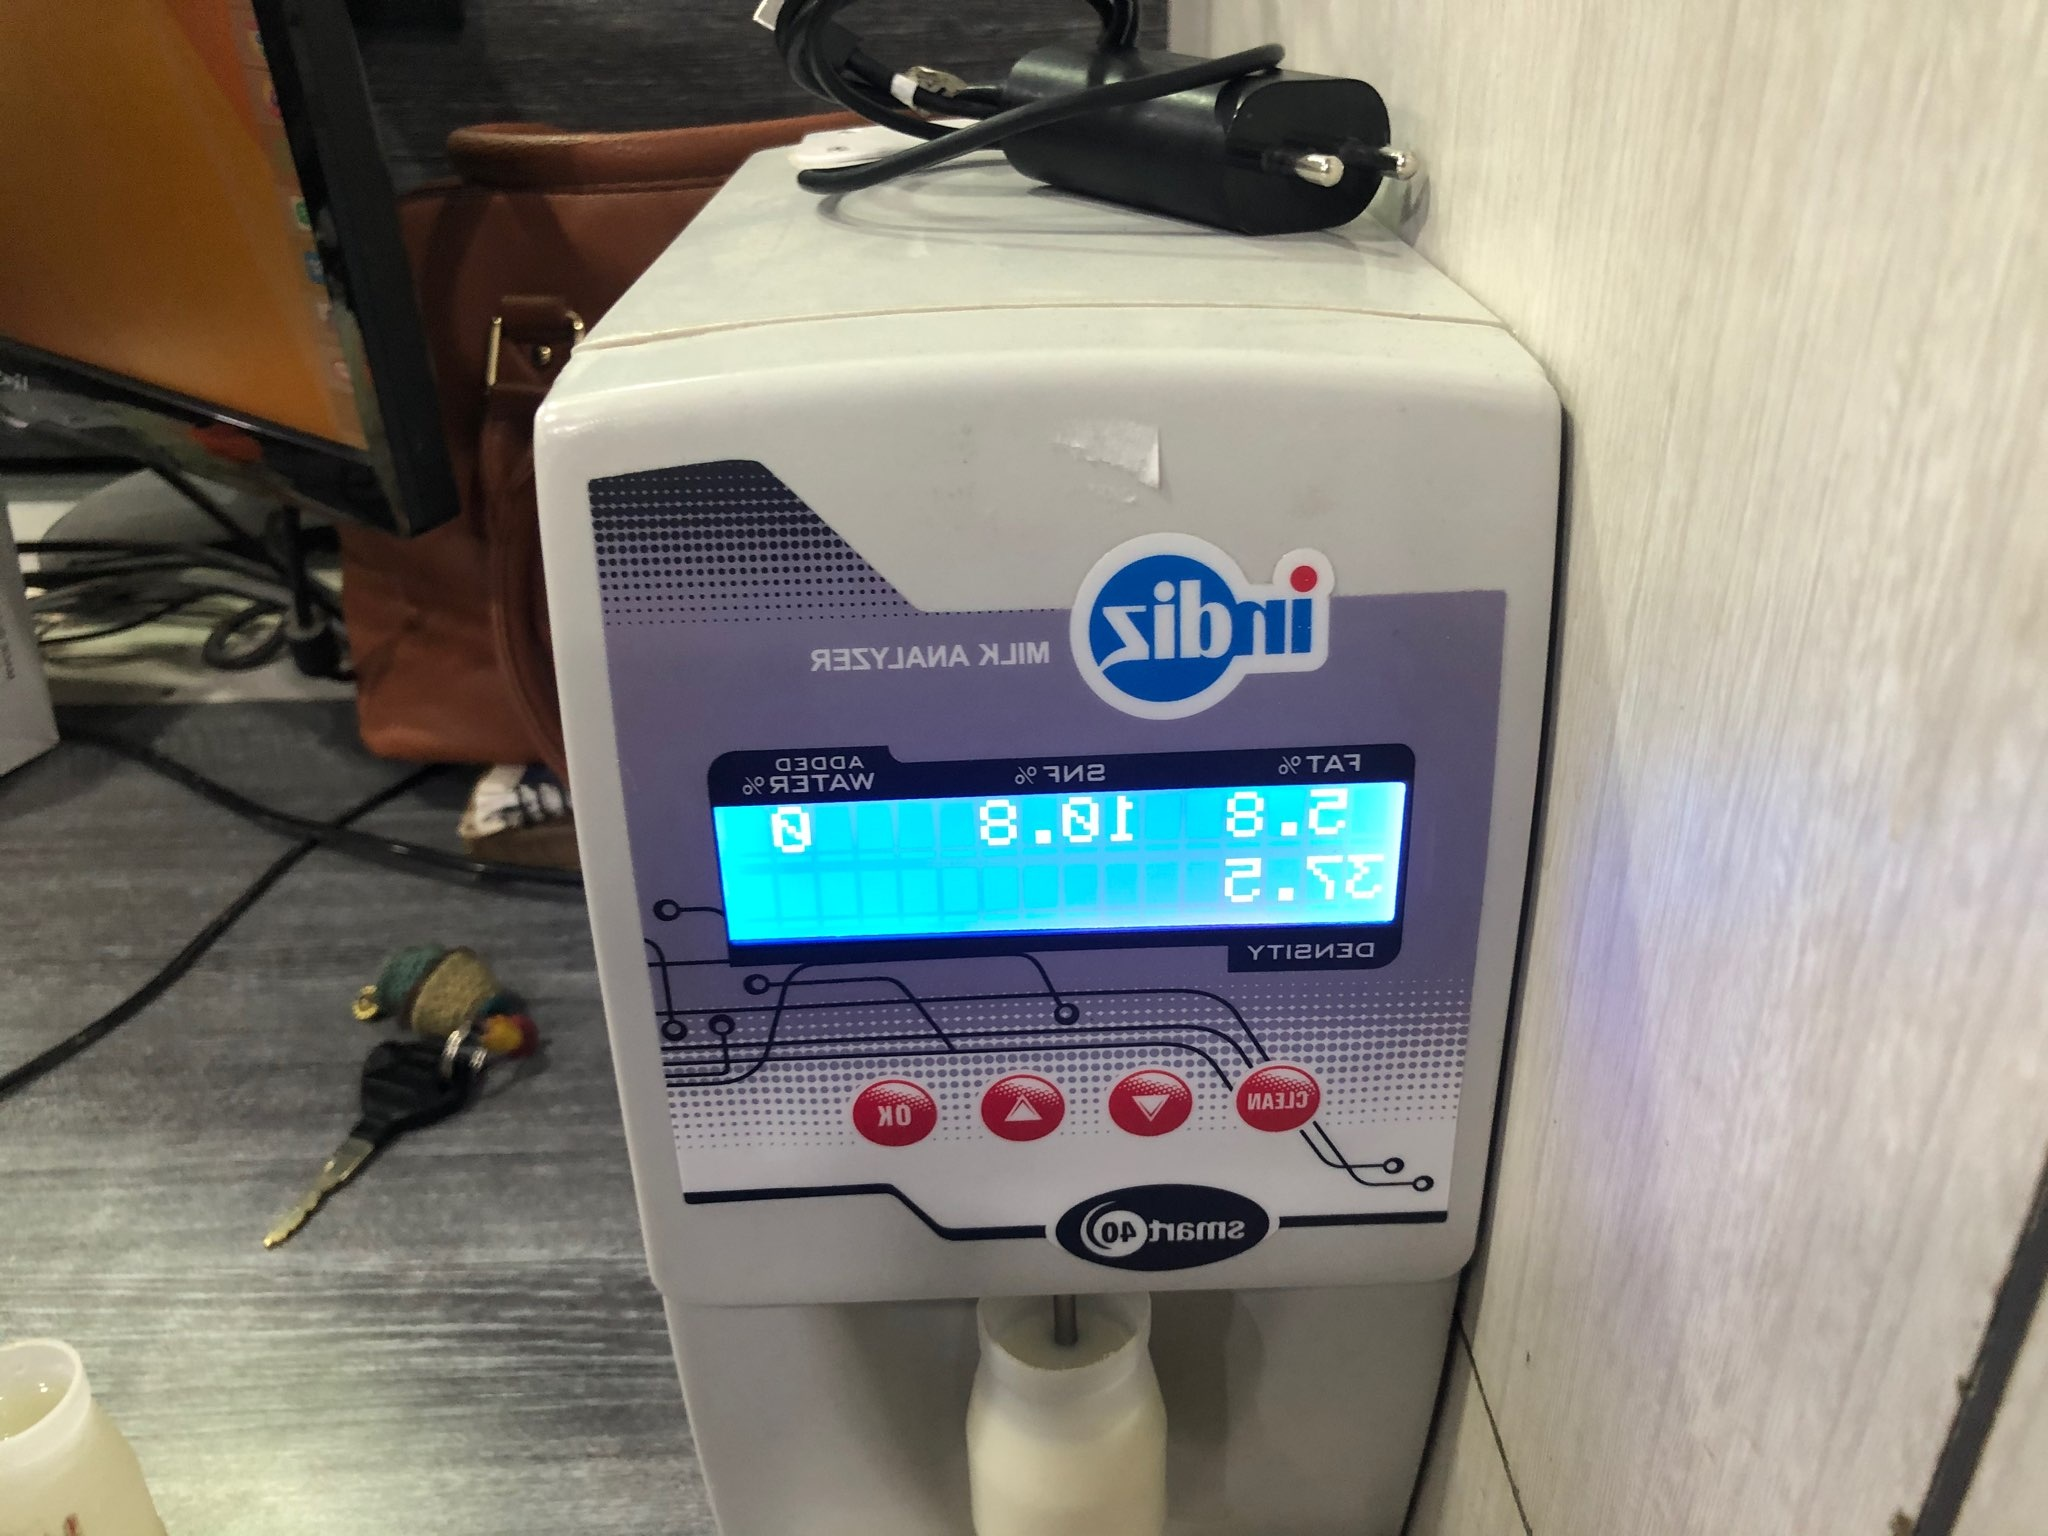lcd: (701, 724, 1413, 984)
